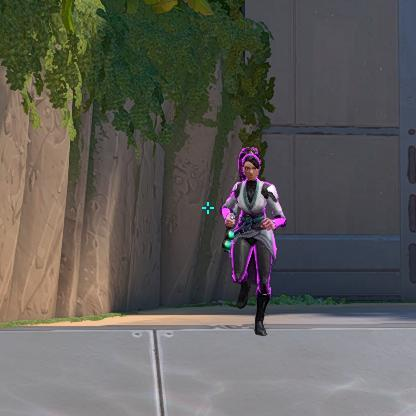enemyBody: (240, 183, 269, 225)
enemyHead: (246, 162, 256, 179)
